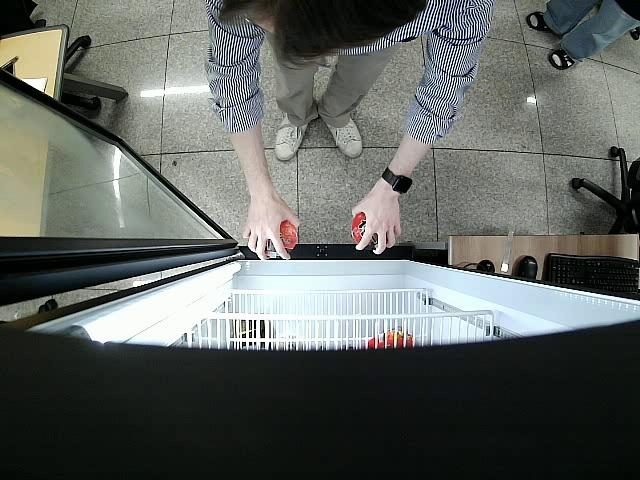00_hand: (243, 197, 300, 263), (351, 191, 403, 257)
02_shinRamen_S: (261, 219, 299, 261), (349, 212, 389, 251)
